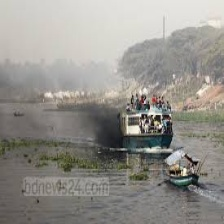smoke: (14, 60, 89, 86), (95, 119, 124, 147)
